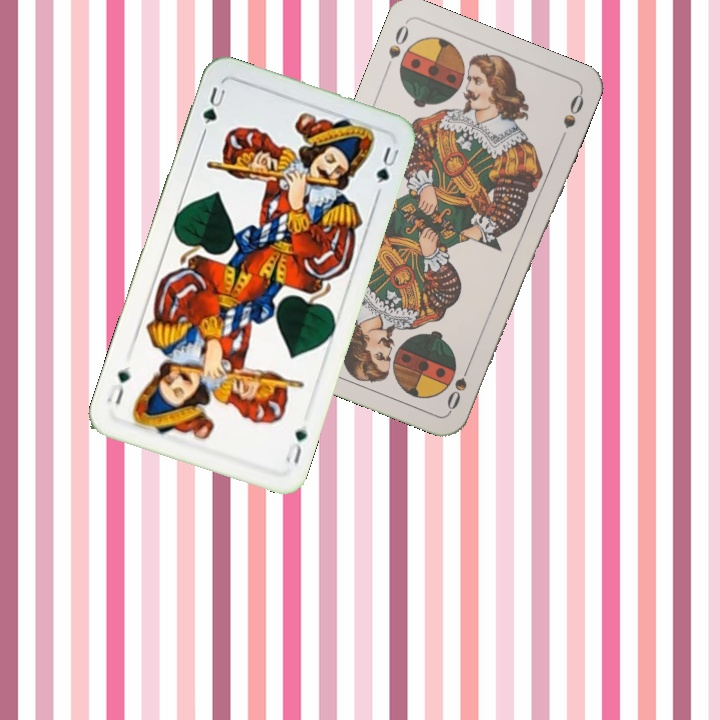GU: (198, 83, 228, 128), (281, 425, 310, 467)
SO: (442, 357, 474, 414), (380, 21, 412, 76)
